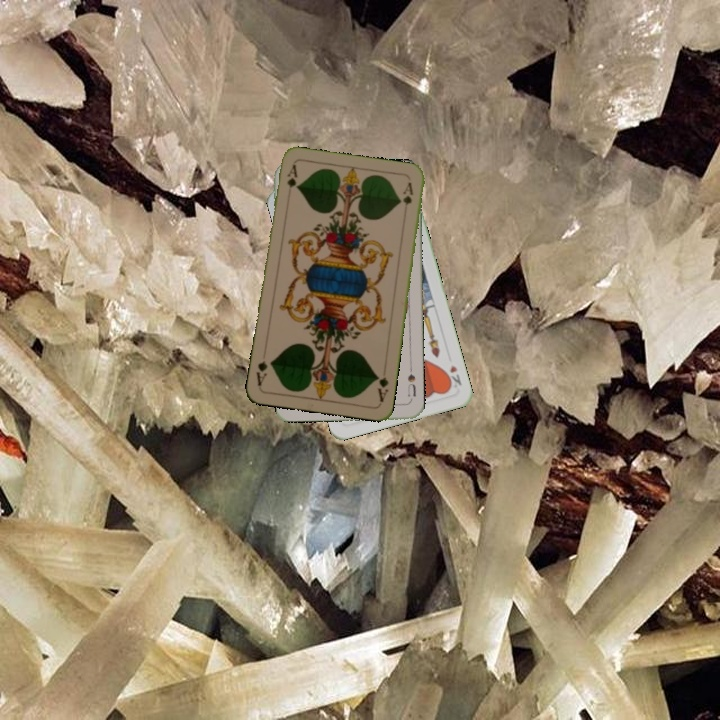GA: (283, 161, 300, 201), (372, 372, 391, 404)
HK: (442, 361, 464, 391)
SU: (403, 363, 419, 404)
